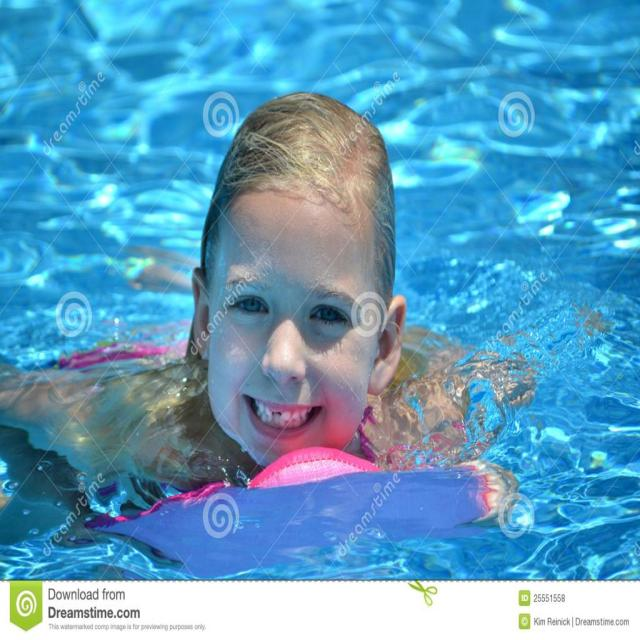Face: (220, 188, 374, 473)
